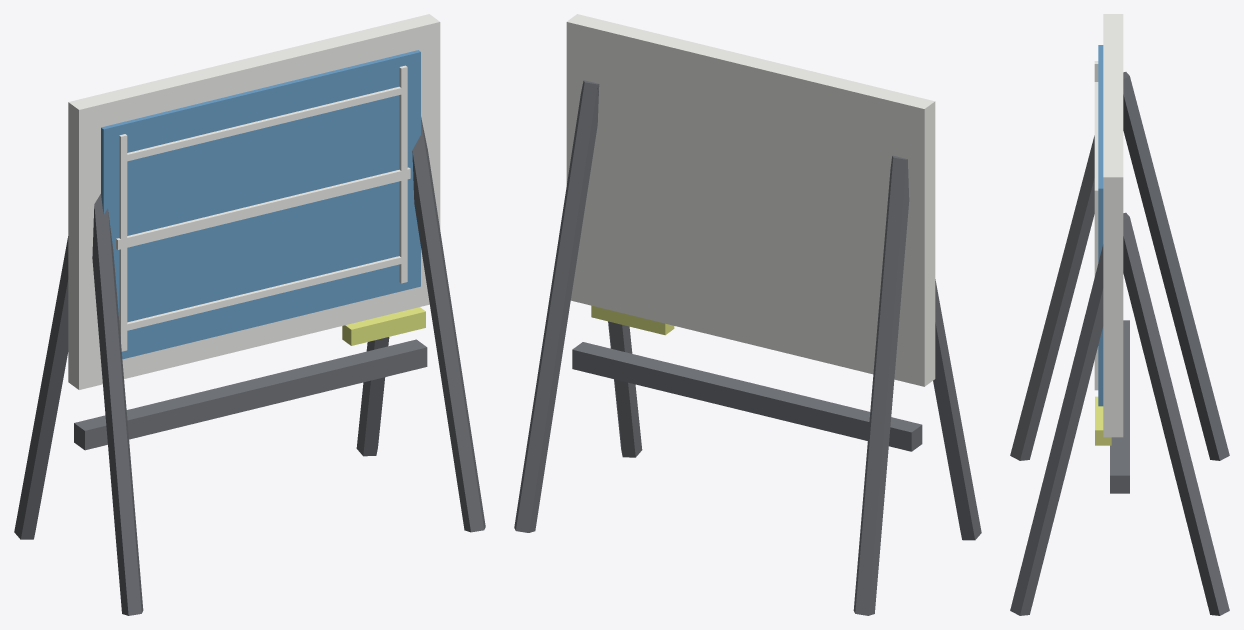
Rendered from tennis-club-and-courts-coach-whiteboard-6470413d__33648.glb.
3 views of the same model, side by side, from view 1: azimuth 30°, elevation 25°; view 2: azimuth 150°, elevation 25°; view 3: azimuth 270°, elevation 25° (orthographic). The views are drawn at different scales.
Parts seen in each view (by area): view 1: coach-whiteboard; view 2: coach-whiteboard; view 3: coach-whiteboard.
Boxes of the visible parts, x1,y1,x2,y2 form: coach-whiteboard: [14, 14, 485, 615]; coach-whiteboard: [514, 14, 981, 615]; coach-whiteboard: [1010, 14, 1229, 615].
Size of the model in its own units: 1.16 by 1.46 by 0.6592.
